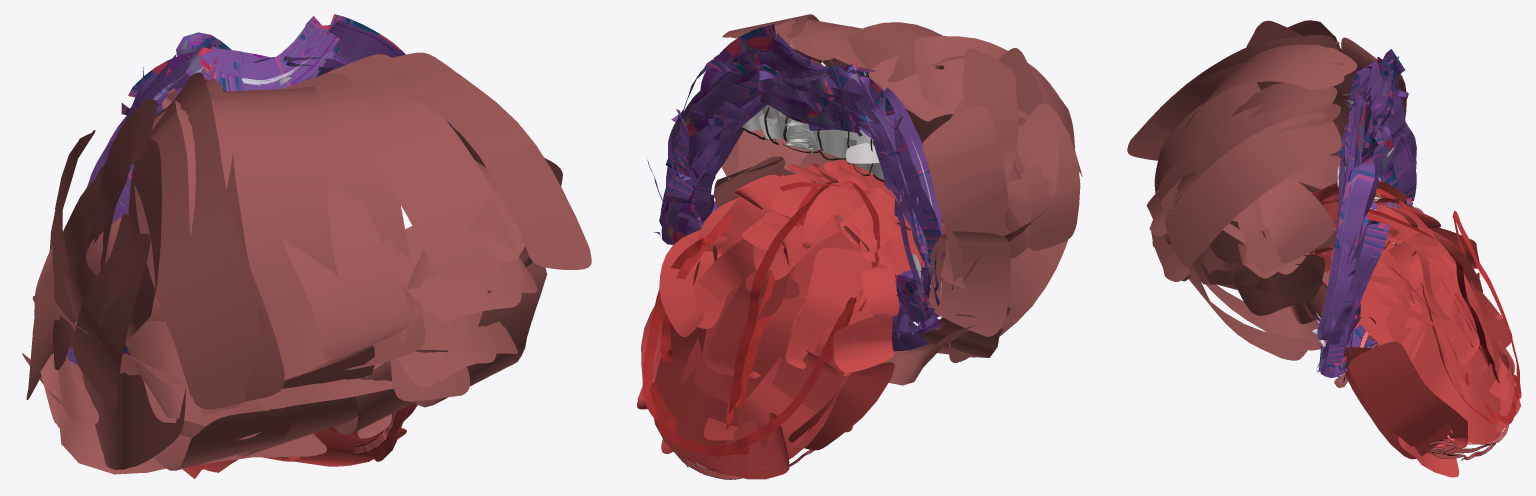
3 views of the same model, side by side, from view 1: azimuth 30°, elevation 25°; view 2: azimuth 150°, elevation 25°; view 3: azimuth 270°, elevation 25° (orthographic). The views are drawn at different scales.
Visible parts, largest first — view 1: brush_Marker_g0_b0_5, brush_OilPaint_g0_b0_4; view 2: brush_Marker_g0_b0_5, brush_OilPaint_g0_b0_4, brush_CelVinyl_g0_b0_3; view 3: brush_Marker_g0_b0_5, brush_OilPaint_g0_b0_4, brush_CelVinyl_g0_b0_3.
Part boxes in pixels (x1,y1,x2,y2): brush_Marker_g0_b0_5: [22, 52, 591, 478]; brush_OilPaint_g0_b0_4: [66, 14, 452, 365]; brush_Marker_g0_b0_5: [637, 14, 1082, 479]; brush_OilPaint_g0_b0_4: [647, 24, 952, 351]; brush_CelVinyl_g0_b0_3: [670, 220, 851, 479]; brush_Marker_g0_b0_5: [1127, 20, 1521, 477]; brush_OilPaint_g0_b0_4: [1316, 49, 1416, 378]; brush_CelVinyl_g0_b0_3: [1332, 241, 1509, 460].
Size of the model in its own units: 0.6829 by 0.7249 by 0.7121.
